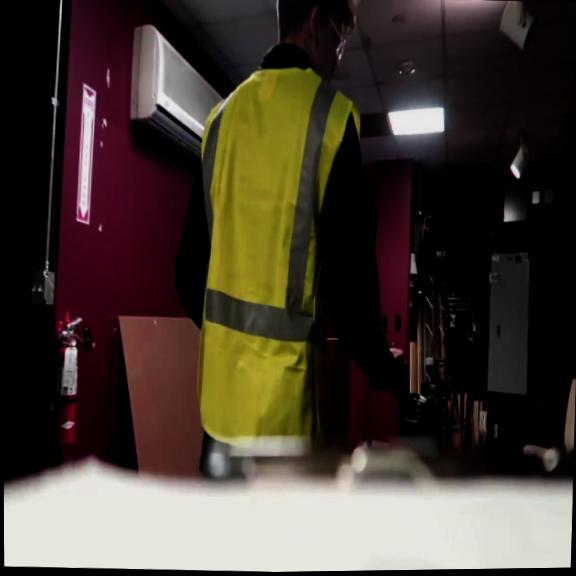safety_vest: (191, 65, 365, 446)
